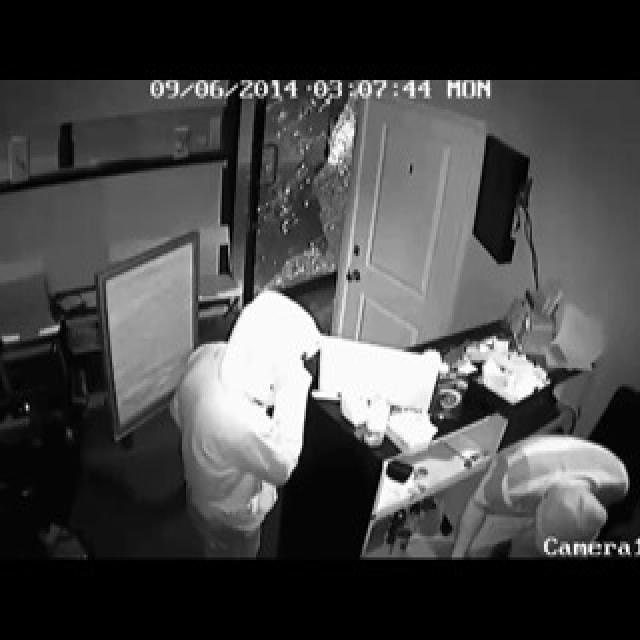thief: (160, 296, 330, 539), (463, 412, 604, 562)
